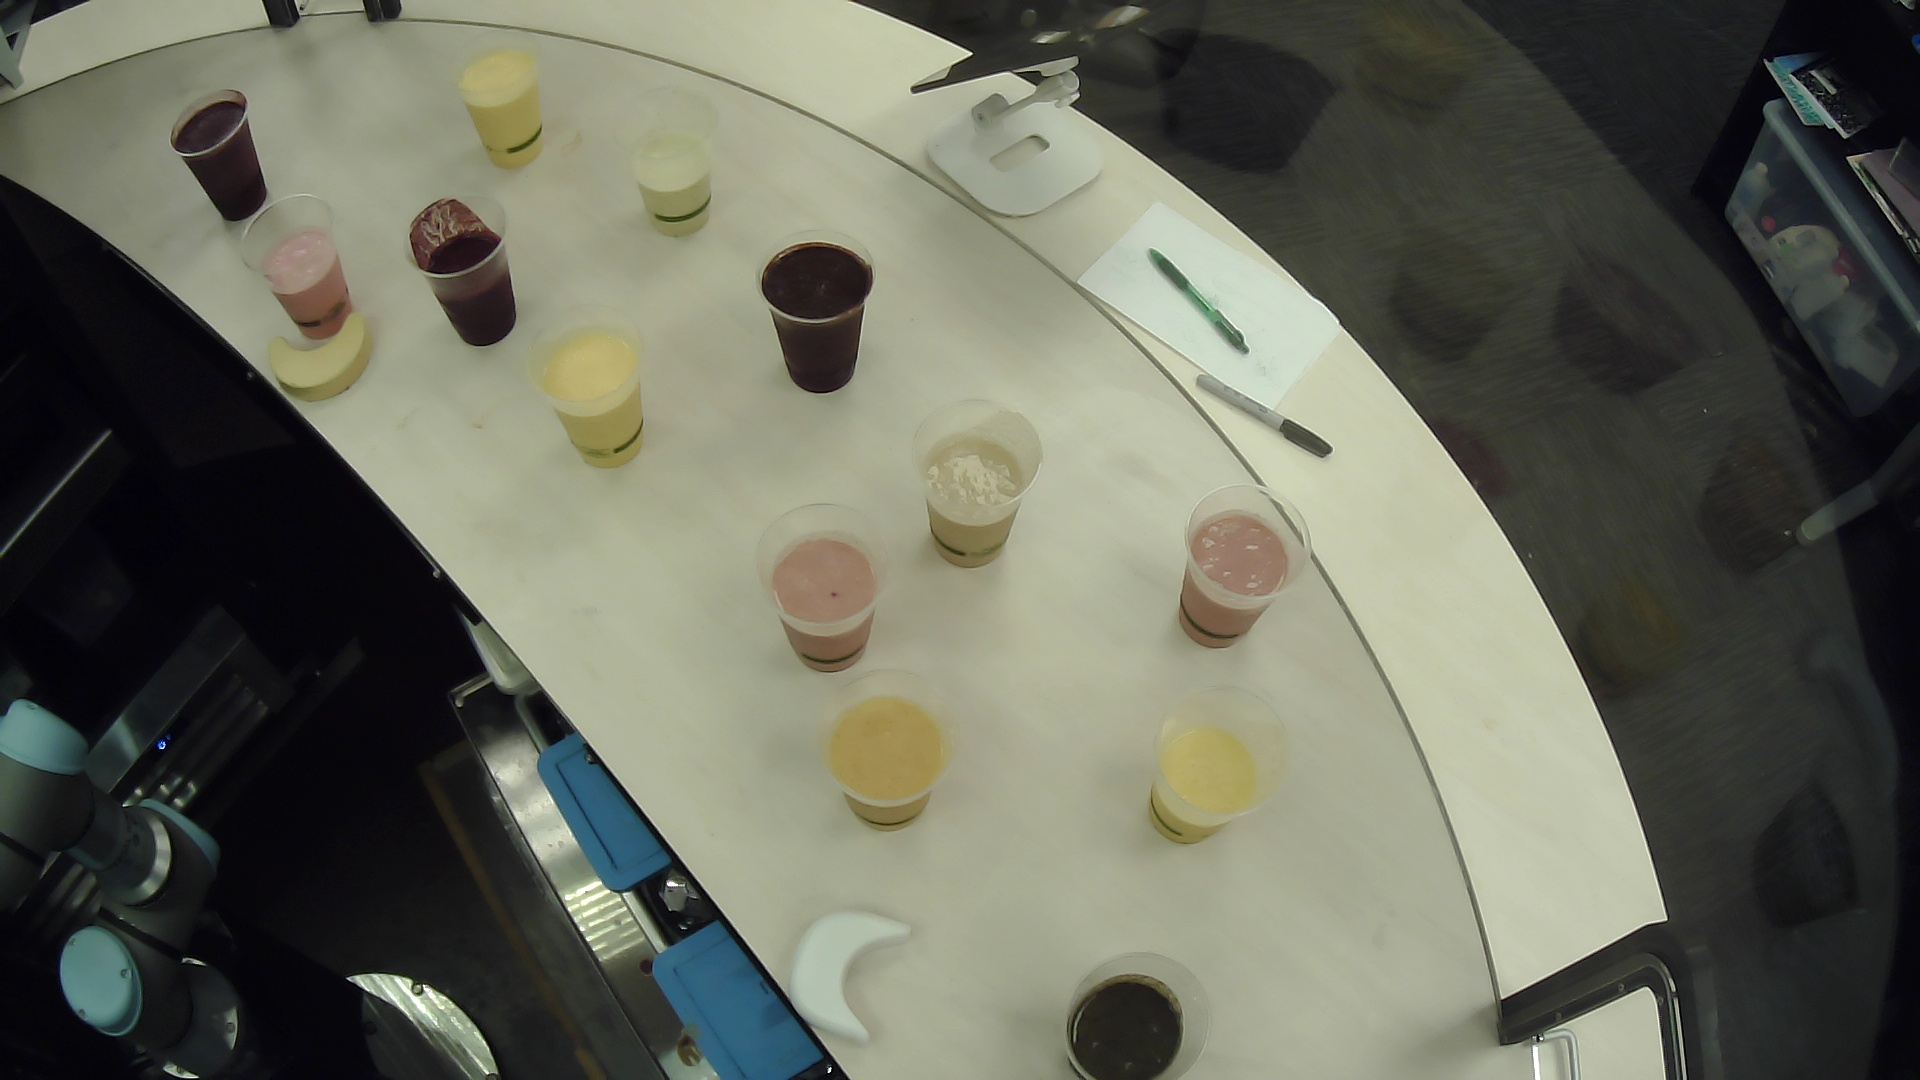Deliver: (782, 887, 942, 1054), (252, 295, 394, 406)
Full_cup: (1127, 673, 1295, 872), (736, 487, 898, 684), (516, 280, 663, 487), (1158, 471, 1319, 659), (810, 658, 967, 849), (905, 382, 1054, 582), (738, 223, 882, 411), (1051, 936, 1230, 1080), (127, 62, 278, 231), (591, 80, 738, 253), (398, 182, 535, 355), (423, 40, 562, 198), (233, 186, 372, 344)
